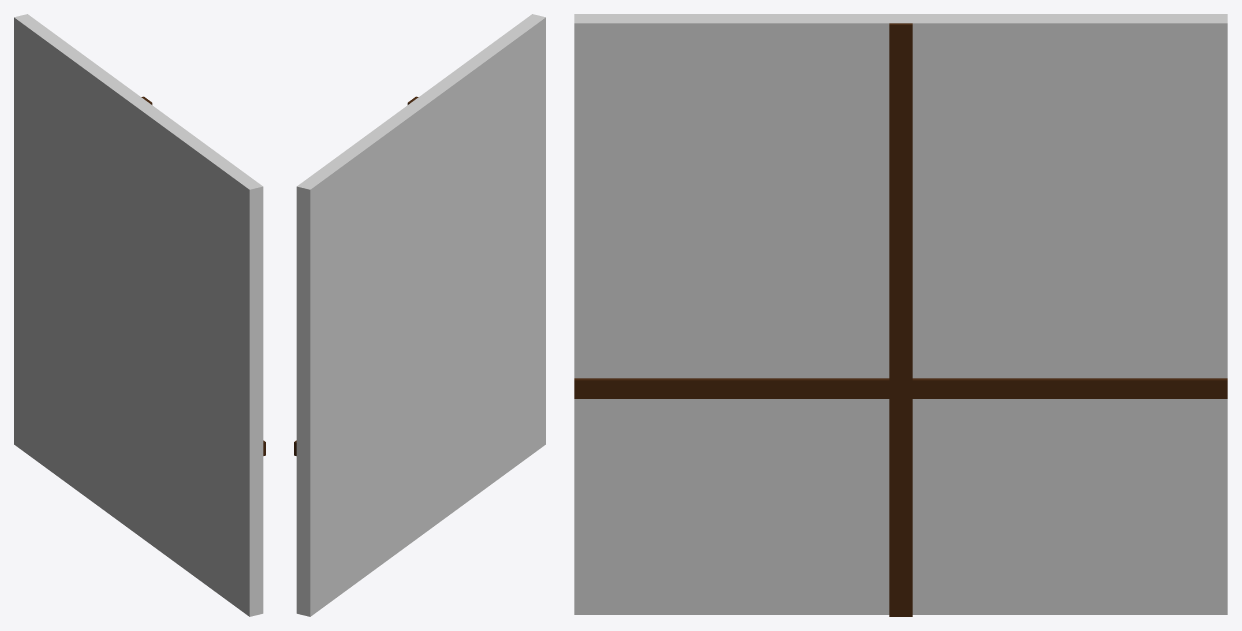
The model's file is paredmaderabase.fbx.
The picture shows the model from 3 angles, left to right: view 1: azimuth 30°, elevation 25°; view 2: azimuth 150°, elevation 25°; view 3: azimuth 270°, elevation 25°; orthographic projection. The views are drawn at different scales.
Visible parts, largest first — view 1: Cube; view 2: Cube; view 3: Cube.
Boxes of the visible parts, <box> form: Cube: <box>14,14,265,616</box>; Cube: <box>294,14,545,616</box>; Cube: <box>574,14,1227,616</box>.
Size of the model in its own units: 300 by 12 by 300.
